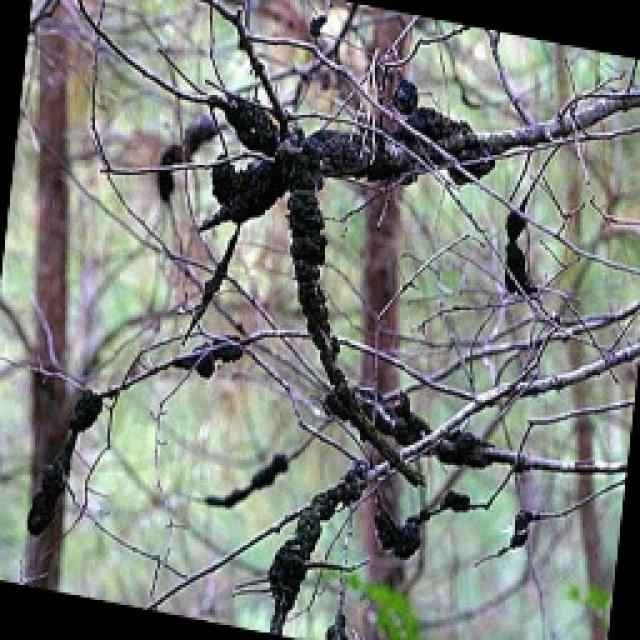Black_knot: (134, 74, 570, 607)
